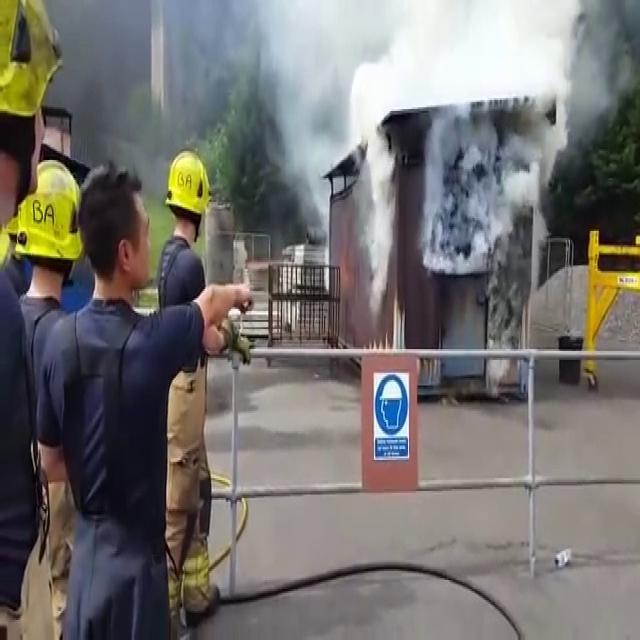Smoke: (416, 83, 556, 256), (298, 0, 575, 83), (346, 99, 394, 255)
